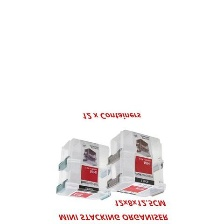plastic_box: (102, 125, 168, 203), (51, 132, 115, 207)
